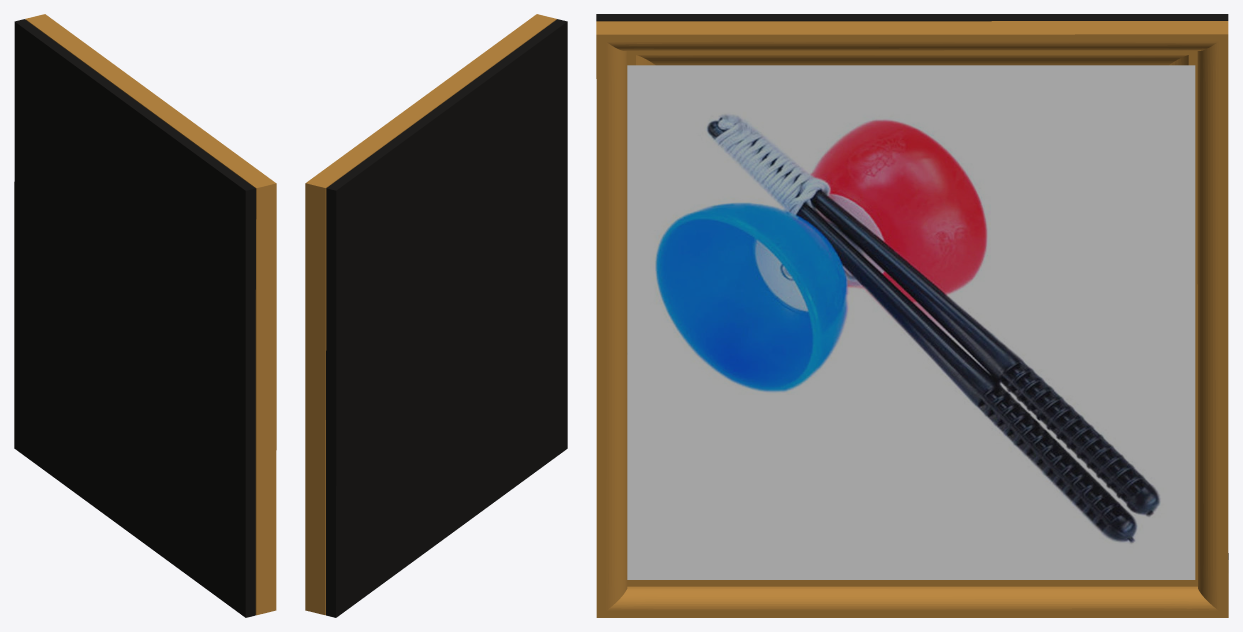
3 views of the same model, side by side, from view 1: azimuth 30°, elevation 25°; view 2: azimuth 150°, elevation 25°; view 3: azimuth 270°, elevation 25° (orthographic). The views are drawn at different scales.
Parts seen in each view (by area): view 1: frame.001_3.002, back panel.001_2.002; view 2: frame.001_3.002, back panel.001_2.002; view 3: frame.001_3.002, back panel.001_2.002.
Part boxes in pixels (<box>): frame.001_3.002: <box>14,19,255,617</box>; back panel.001_2.002: <box>25,14,276,615</box>; frame.001_3.002: <box>326,19,567,617</box>; back panel.001_2.002: <box>305,14,556,615</box>; frame.001_3.002: <box>596,14,1228,579</box>; back panel.001_2.002: <box>596,21,1228,617</box>.
Bounding box in the file's own units: 1.05 × 13.95 × 13.69.
Materials: 3 (1 with a texture image).
